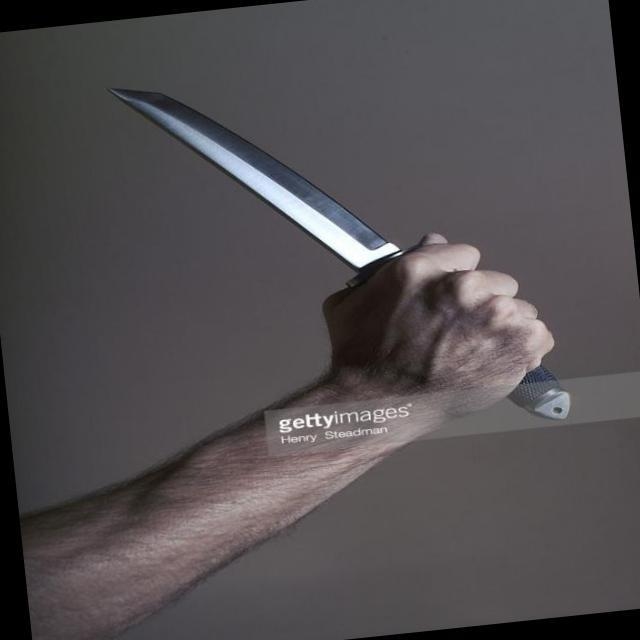Knife: (92, 37, 567, 384)
